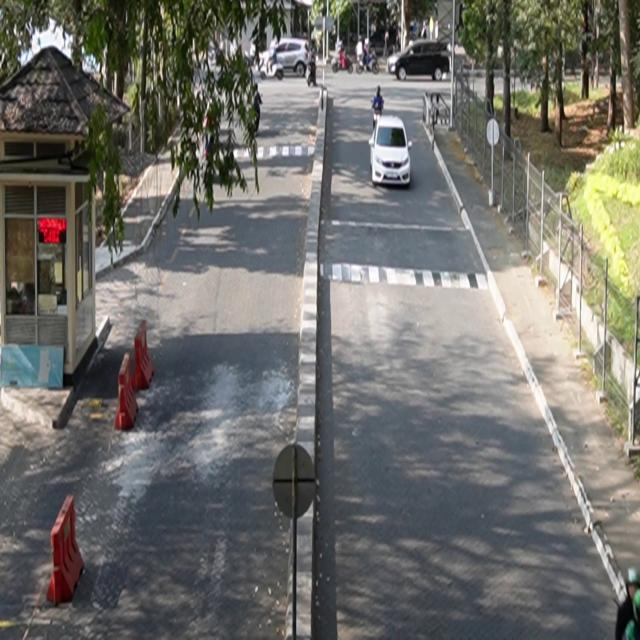car: (370, 116, 414, 189)
